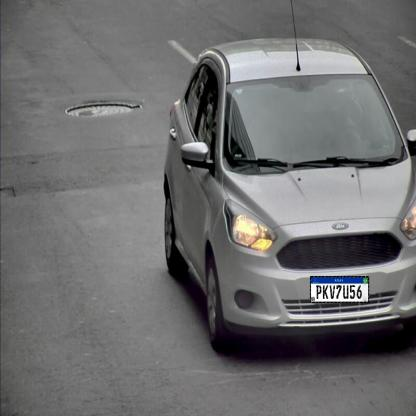PlacaM: (310, 276, 369, 303)
